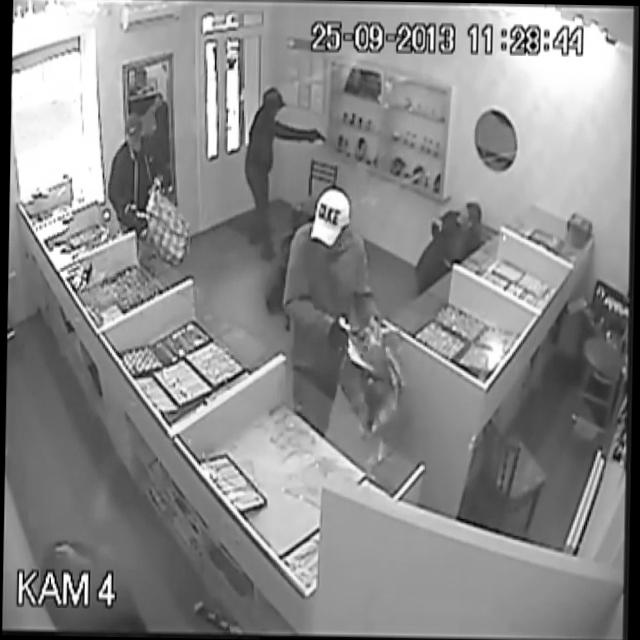gun: (302, 116, 328, 154)
person: (270, 192, 367, 404), (102, 106, 175, 255), (399, 187, 506, 275)
person with a gun: (230, 82, 325, 241)
